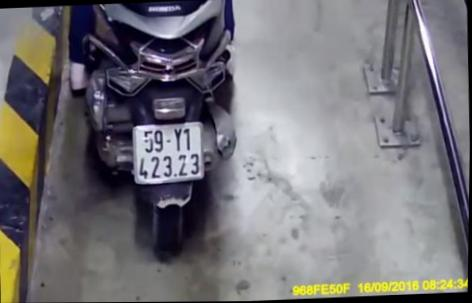LP: (132, 122, 206, 185)
